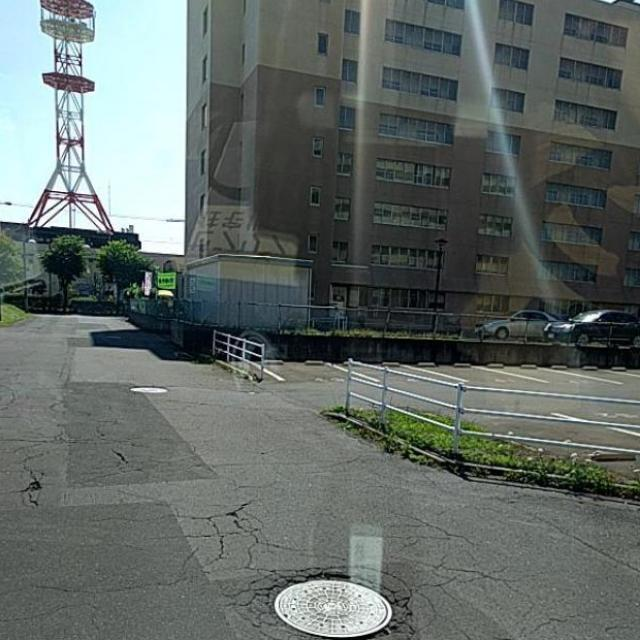Lubang: (273, 573, 406, 640)
Sambungan: (0, 505, 235, 640), (59, 382, 216, 487)
